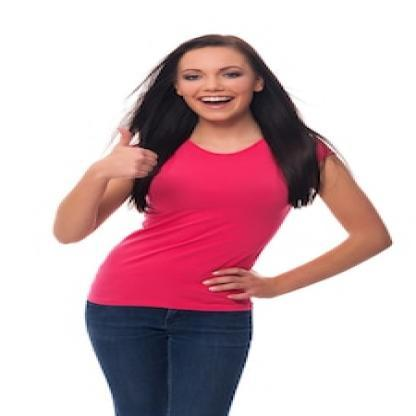thumb_up: (89, 123, 159, 185)
